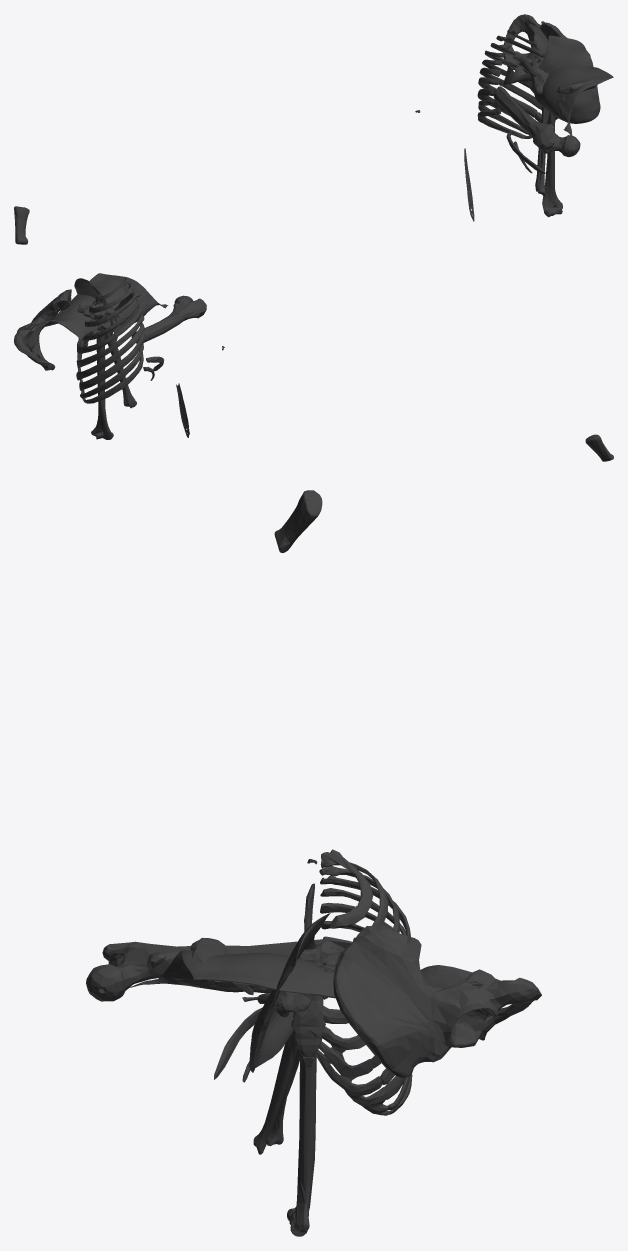
The model's file is sharedassets39.glb.
The picture shows the model from 3 angles, top to bottom: view 1: azimuth 30°, elevation 25°; view 2: azimuth 150°, elevation 25°; view 3: azimuth 270°, elevation 25°; orthographic projection. The views are drawn at different scales.
Parts seen in each view (by area): view 1: 0002_Latissimus dorsi, R__1000235, 0001_Pectoralis major, R__1000310, 0092_Femur _thigh_, R_male_000930, 0035_Humerus _arm, brachium_, R__000807, 0086_Sixth rib _06_, R__002278, 0089_Ischium, R__001010, 0009_2nd Middle phalanx _hand_, R__000815, 0080_Tenth rib _10_, R__002282, 0087_Seventh rib _07_, R__002279, 0048_S01-05 Sacrum__001242, 0079_Ninth rib _09_, R__002281; view 2: 0002_Latissimus dorsi, R__1000235, 0092_Femur _thigh_, R_male_000930, 0091_Ilium, R__001012, 0035_Humerus _arm, brachium_, R__000807, 0078_Eighth rib _08_, R__002280, 0087_Seventh rib _07_, R__002279, 0086_Sixth rib _06_, R__002278, 0089_Ischium, R__001010, 0079_Ninth rib _09_, R__002281, 0085_Fifth rib _05_, R__002277, 0080_Tenth rib _10_, R__002282, 0001_Pectoralis major, R__1000310 (+8 smaller); view 3: 0091_Ilium, R__001012, 0002_Latissimus dorsi, R__1000235, 0092_Femur _thigh_, R_male_000930, 0035_Humerus _arm, brachium_, R__000807, 0001_Pectoralis major, R__1000310, 0089_Ischium, R__001010, 0075_Body of sternum__001163, 0090_Pubis, R__001011, 0009_2nd Middle phalanx _hand_, R__000815, 0048_S01-05 Sacrum__001242, 0086_Sixth rib _06_, R__002278, 0033_Ulna _forearm, antebrachium_, R__000808 (+3 smaller).
Part boxes in pixels (<box>): 0002_Latissimus dorsi, R__1000235: <box>518,24,613,135</box>; 0001_Pectoralis major, R__1000310: <box>503,35,600,123</box>; 0092_Femur _thigh_, R_male_000930: <box>493,86,580,156</box>; 0035_Humerus _arm, brachium_, R__000807: <box>542,112,562,217</box>; 0086_Sixth rib _06_, R__002278: <box>479,67,541,110</box>; 0089_Ischium, R__001010: <box>504,14,540,44</box>; 0009_2nd Middle phalanx _hand_, R__000815: <box>14,206,29,244</box>; 0080_Tenth rib _10_, R__002282: <box>477,107,532,138</box>; 0087_Seventh rib _07_, R__002279: <box>478,77,557,122</box>; 0048_S01-05 Sacrum__001242: <box>530,53,548,93</box>; 0079_Ninth rib _09_, R__002281: <box>478,99,531,136</box>; 0002_Latissimus dorsi, R__1000235: <box>30,273,168,340</box>; 0092_Femur _thigh_, R_male_000930: <box>131,295,206,343</box>; 0091_Ilium, R__001012: <box>30,289,71,338</box>; 0035_Humerus _arm, brachium_, R__000807: <box>91,335,113,439</box>; 0078_Eighth rib _08_, R__002280: <box>79,332,145,391</box>; 0087_Seventh rib _07_, R__002279: <box>76,323,144,380</box>; 0086_Sixth rib _06_, R__002278: <box>76,313,144,368</box>; 0089_Ischium, R__001010: <box>14,323,40,362</box>; 0079_Ninth rib _09_, R__002281: <box>80,343,143,398</box>; 0085_Fifth rib _05_, R__002277: <box>77,305,142,353</box>; 0080_Tenth rib _10_, R__002282: <box>82,352,143,403</box>; 0001_Pectoralis major, R__1000310: <box>74,278,117,342</box>; 0091_Ilium, R__001012: <box>333,924,463,1077</box>; 0002_Latissimus dorsi, R__1000235: <box>129,950,480,998</box>; 0092_Femur _thigh_, R_male_000930: <box>86,938,330,1001</box>; 0035_Humerus _arm, brachium_, R__000807: <box>287,1051,316,1236</box>; 0001_Pectoralis major, R__1000310: <box>249,913,330,1072</box>; 0089_Ischium, R__001010: <box>454,969,541,1016</box>; 0075_Body of sternum__001163: <box>291,949,325,1057</box>; 0090_Pubis, R__001011: <box>451,1005,522,1047</box>; 0009_2nd Middle phalanx _hand_, R__000815: <box>274,490,322,552</box>; 0048_S01-05 Sacrum__001242: <box>257,941,344,1017</box>; 0086_Sixth rib _06_, R__002278: <box>319,902,392,1080</box>; 0033_Ulna _forearm, antebrachium_, R__000808: <box>253,1039,297,1154</box>.
Size of the model in its own units: 0.7176 by 0.2153 by 0.254.
Materials: 1 (1 with a texture image).
